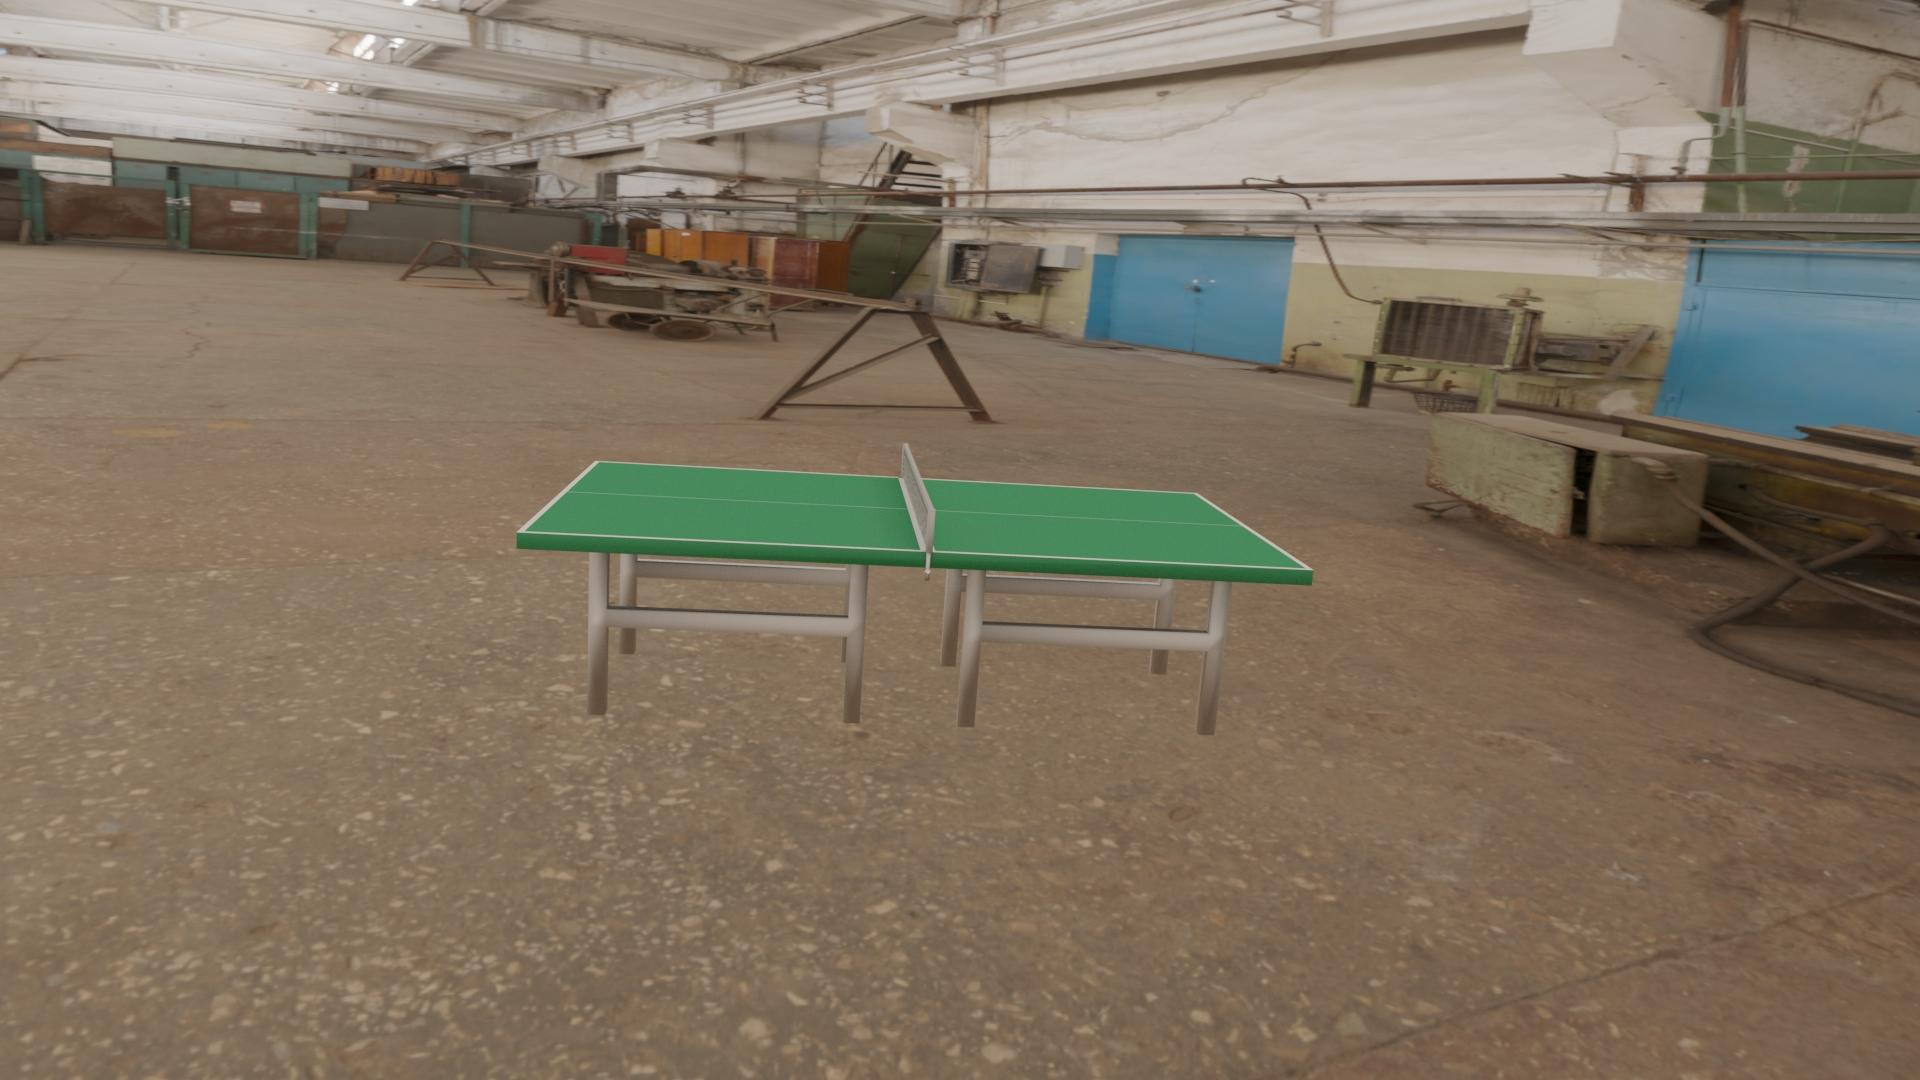table: (524, 462, 1307, 568)
